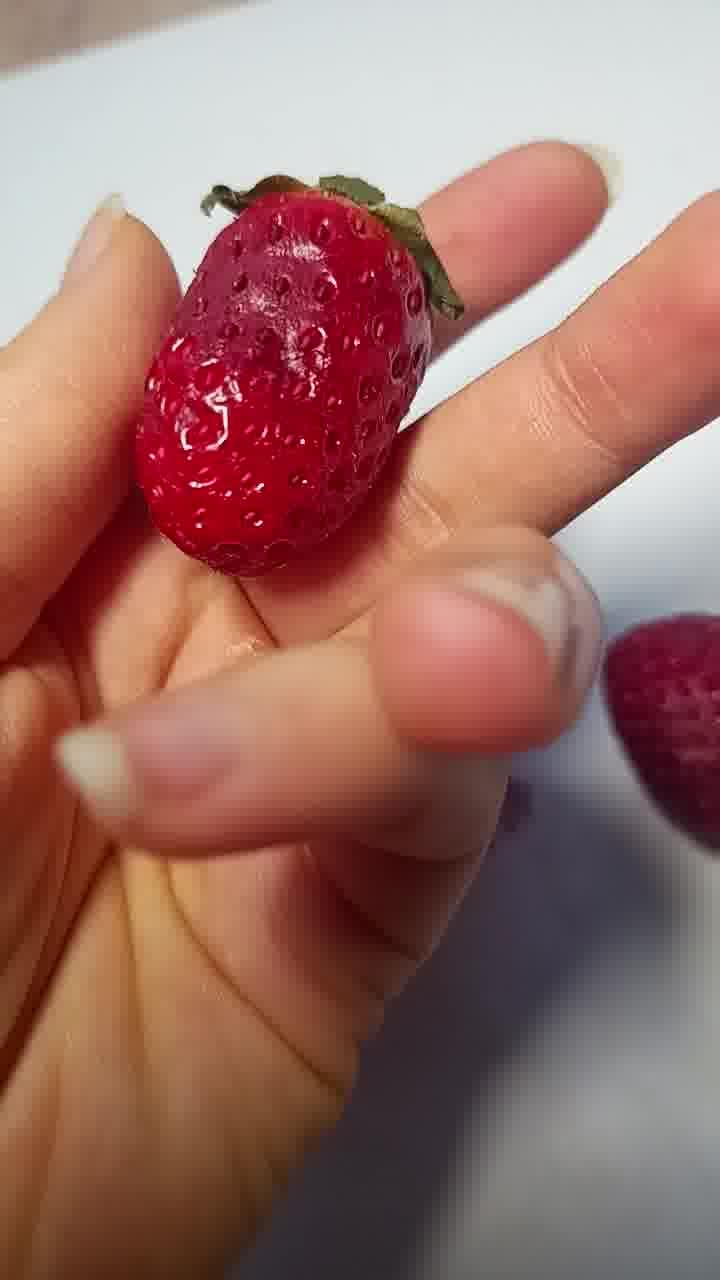strawberry: (596, 616, 720, 856)
